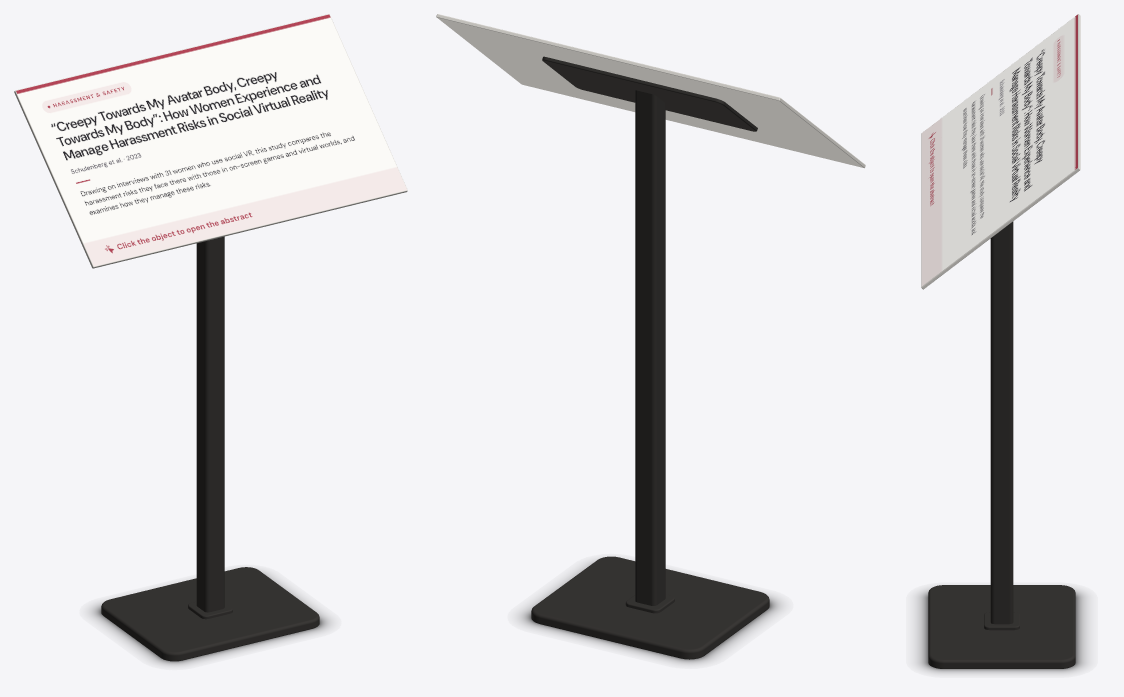
File: plaque-schulenberg-2023-stand.glb
3 views of the same model, side by side, from view 1: azimuth 30°, elevation 25°; view 2: azimuth 150°, elevation 25°; view 3: azimuth 270°, elevation 25° (orthographic). The views are drawn at different scales.
Parts seen in each view (by area): view 1: board, stand; view 2: stand, board; view 3: board, stand.
Boxes of the visible parts, x1,y1,x2,y2 form: board: (14,14,407,268); stand: (91,236,329,664); stand: (520,56,779,663); board: (436,14,865,168); board: (921,14,1080,289); stand: (918,221,1085,672).
Bounding box in the file's own units: 0.643 × 1.05 × 0.38.
Materials: 4 (2 with a texture image).
